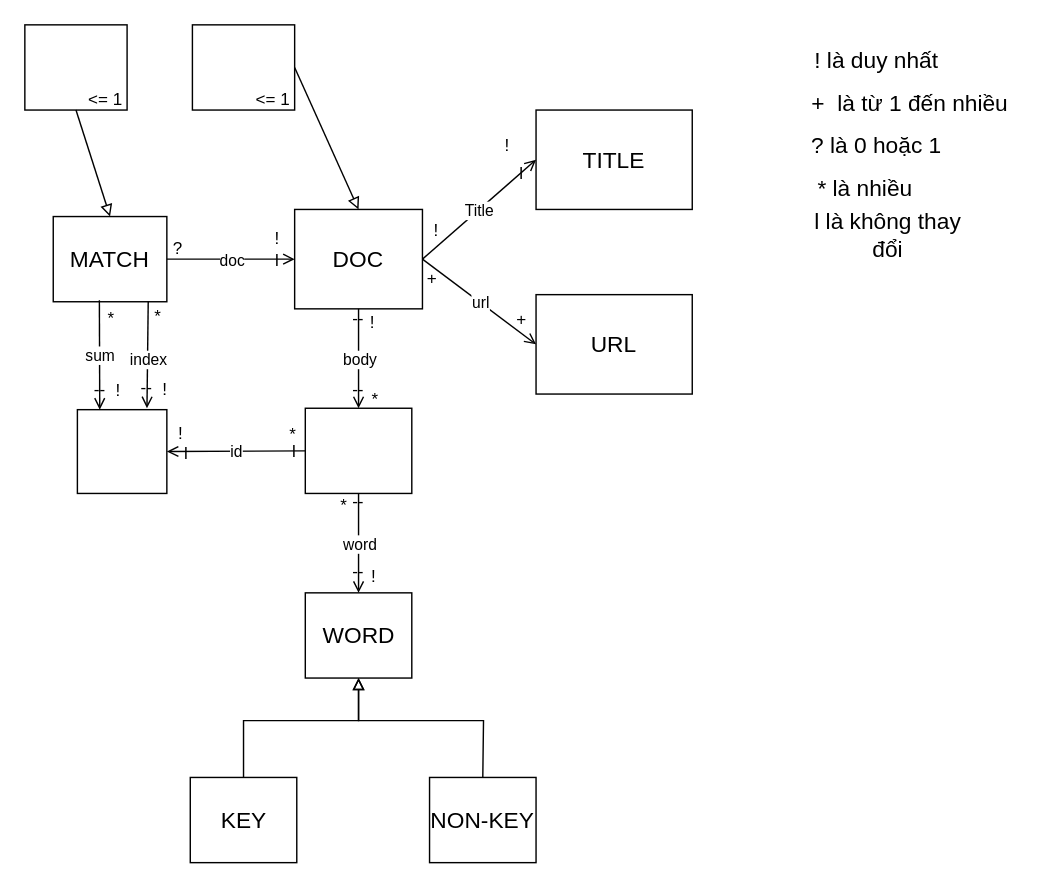
Some shapes in this 1054 by 888 pixel diagram are drawn without their labels. Each missing label, with the box of its shape:
Curent: (191, 23, 295, 110)
Curent Match: (23, 23, 127, 110)
ENTRY: (304, 407, 412, 493)
NUM: (76, 408, 167, 493)
